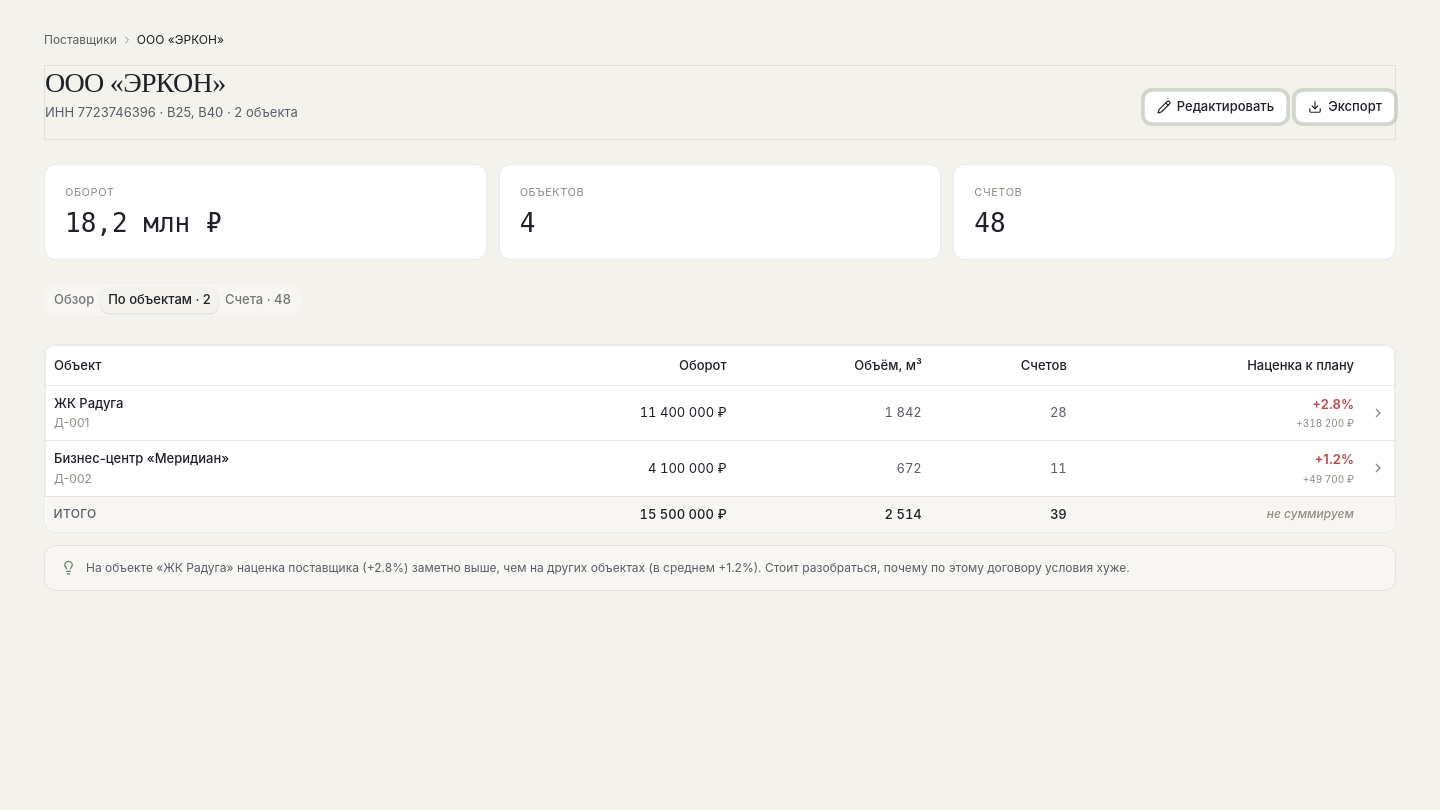
Test: SupplierPage › opens edit dialog on 'Редактировать' click
Click the button "Редактировать" at (1216, 107), box [1144,91,1287,123]
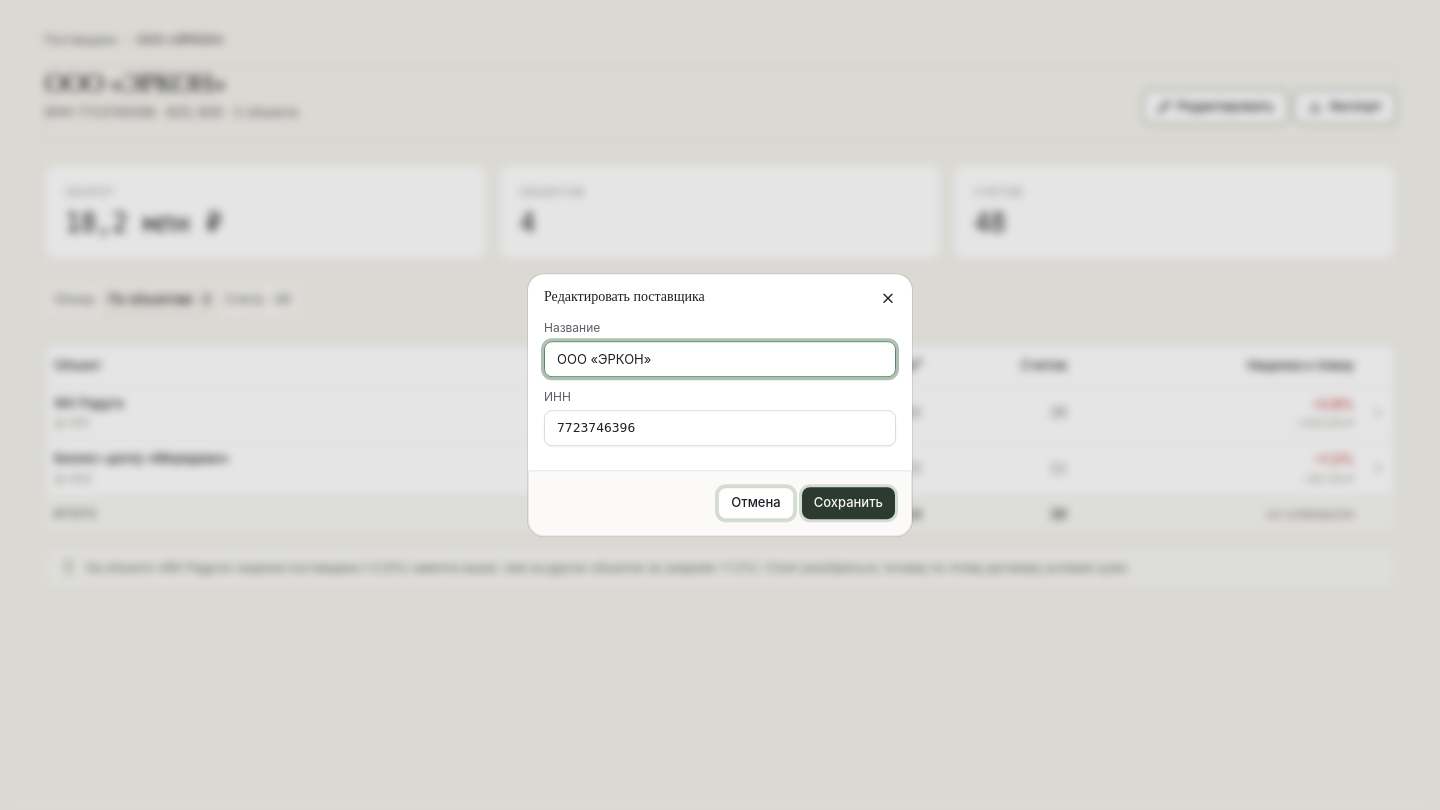
Check: the heading "Редактировать поставщика" is shown, box [544,289,705,304]
